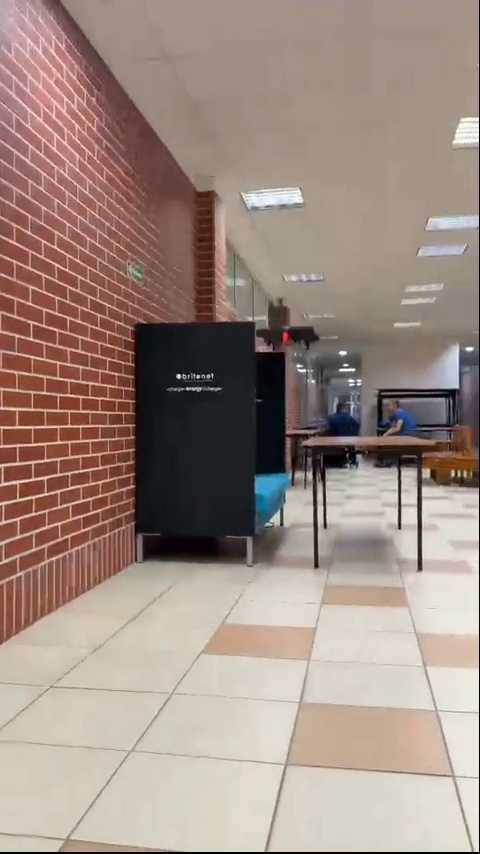drone: (260, 328, 318, 355)
no vest: (375, 396, 417, 441), (327, 395, 368, 436)
